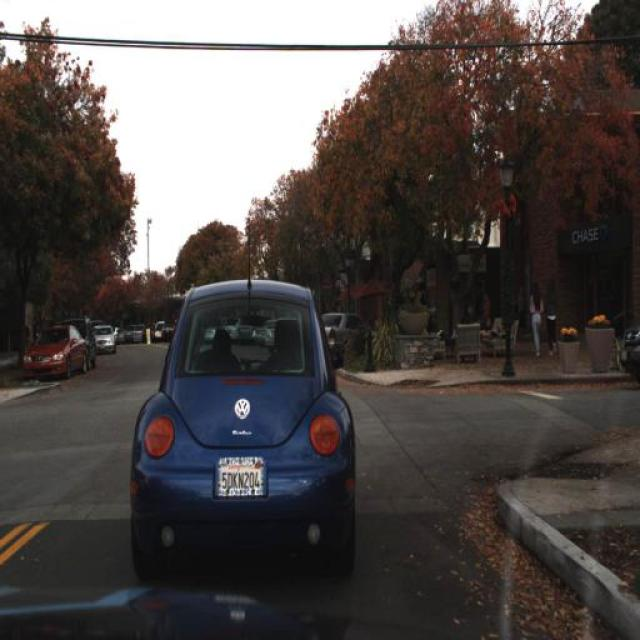car: (126, 262, 362, 588), (22, 323, 86, 379), (318, 308, 369, 353), (71, 309, 97, 367), (617, 317, 639, 382), (90, 323, 118, 359)
trafficLight: (529, 281, 543, 368), (544, 279, 560, 355), (514, 284, 527, 334), (490, 312, 504, 336), (481, 294, 493, 320)
